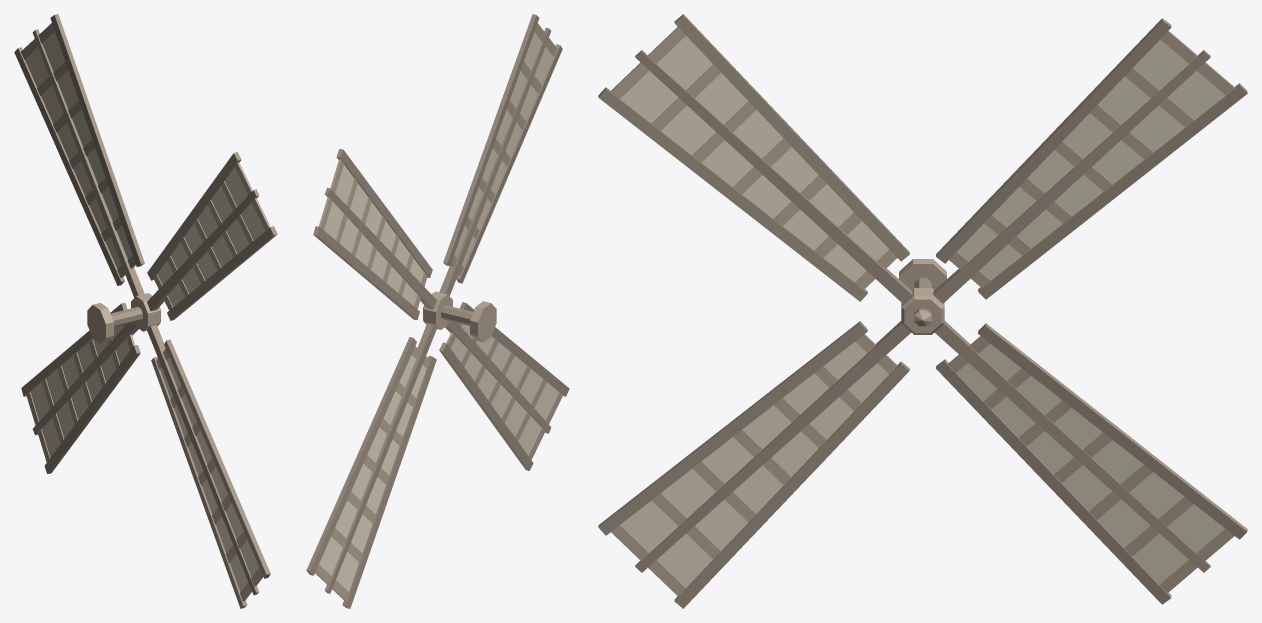
File: Wall_Prop_Windmill_1.glb
The picture shows the model from 3 angles, left to right: view 1: azimuth 30°, elevation 25°; view 2: azimuth 150°, elevation 25°; view 3: azimuth 270°, elevation 25°; orthographic projection. The views are drawn at different scales.
Visible parts, largest first — view 1: windmill; view 2: windmill; view 3: windmill.
Boxes of the visible parts, left/top/right/bottom form: windmill: left=14, top=14, right=277, bottom=608; windmill: left=306, top=14, right=569, bottom=608; windmill: left=598, top=14, right=1247, bottom=608.
Bounding box in the file's own units: 1.02 × 7 × 7.
